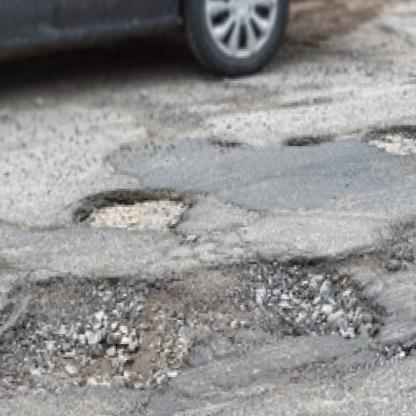pothole: (0, 275, 389, 382), (75, 183, 196, 236), (386, 203, 416, 301), (361, 120, 416, 160), (285, 130, 334, 149)
